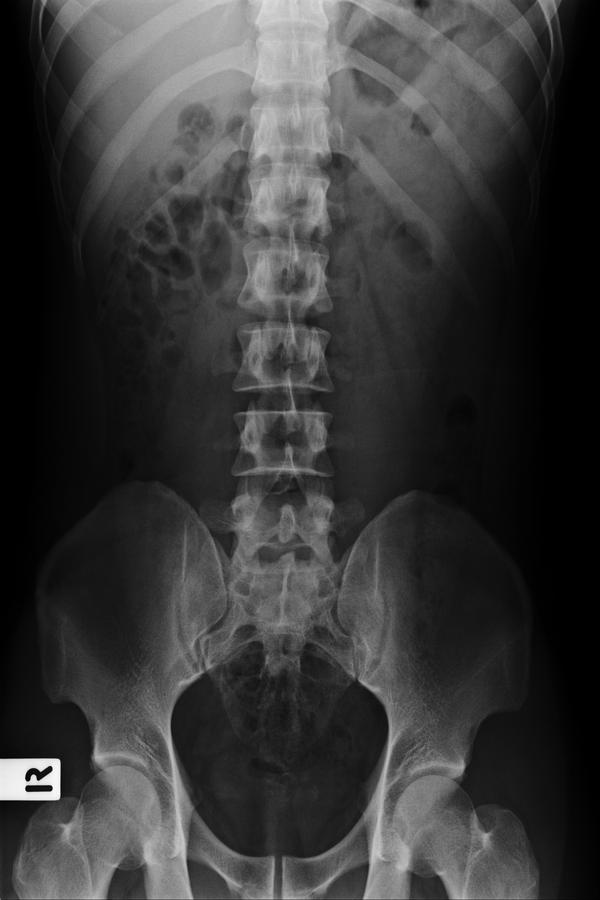lumbar scoliosis: (229, 15, 346, 594)
